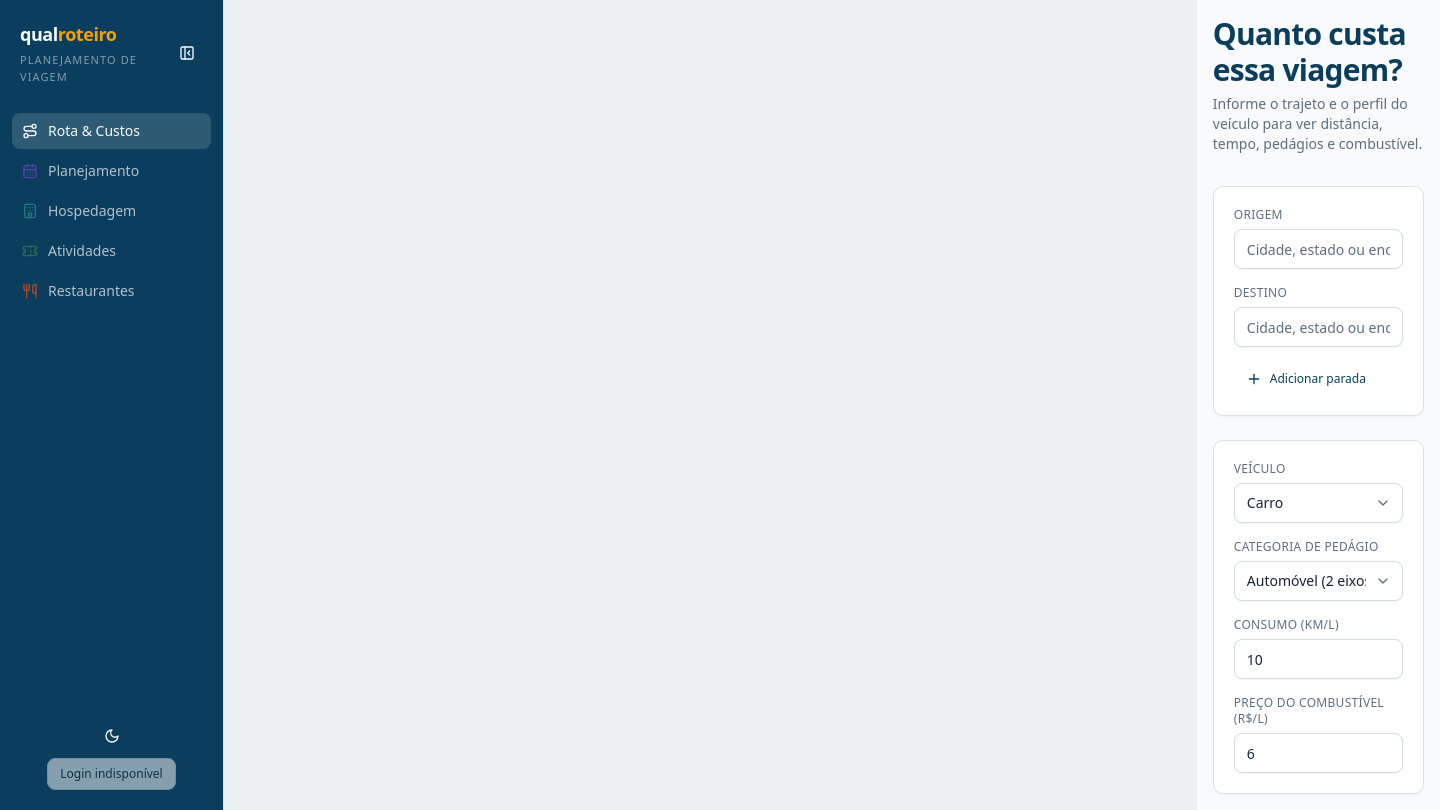
it: Tela 1 — nova consulta › shows selected origin and destination markers before submitting
Type "São" into the dropdown labelled "Origem" at (1318, 249), box [1234,229,1403,269]
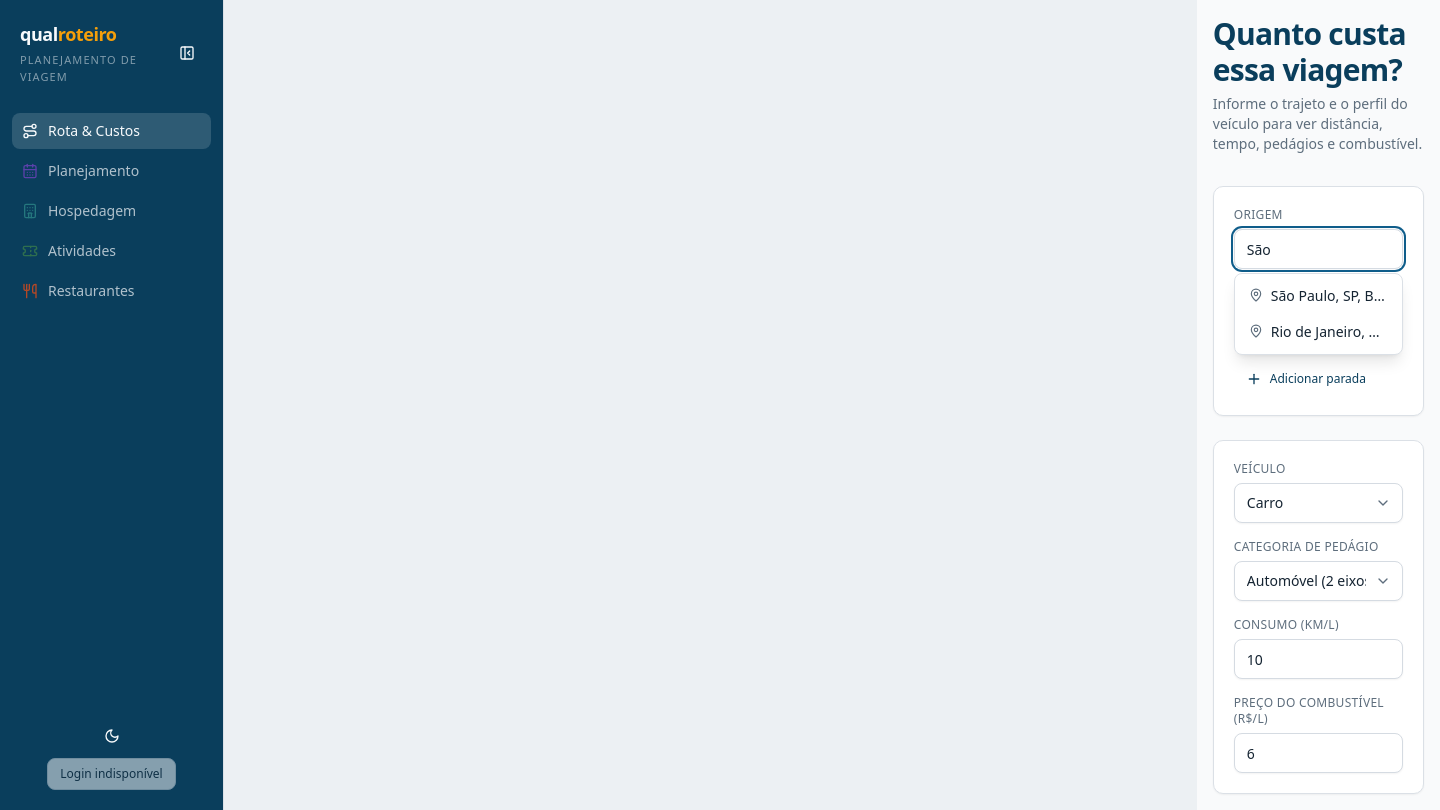
Click the option "São Paulo, SP, Brasil" at (1318, 296), box [1239,278,1398,314]
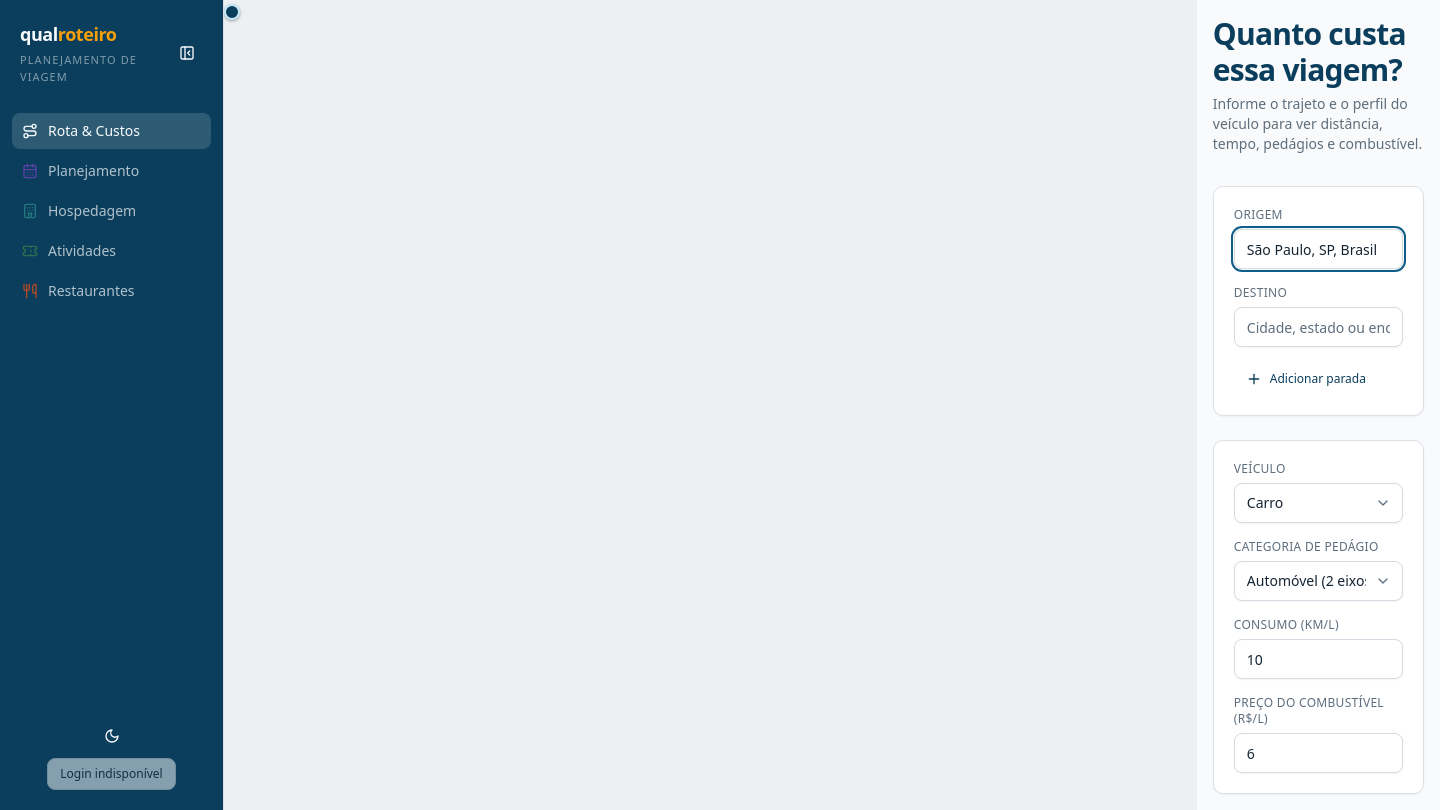
Type "Rio" into the dropdown labelled "Destino" at (1318, 327), box [1234,307,1403,347]
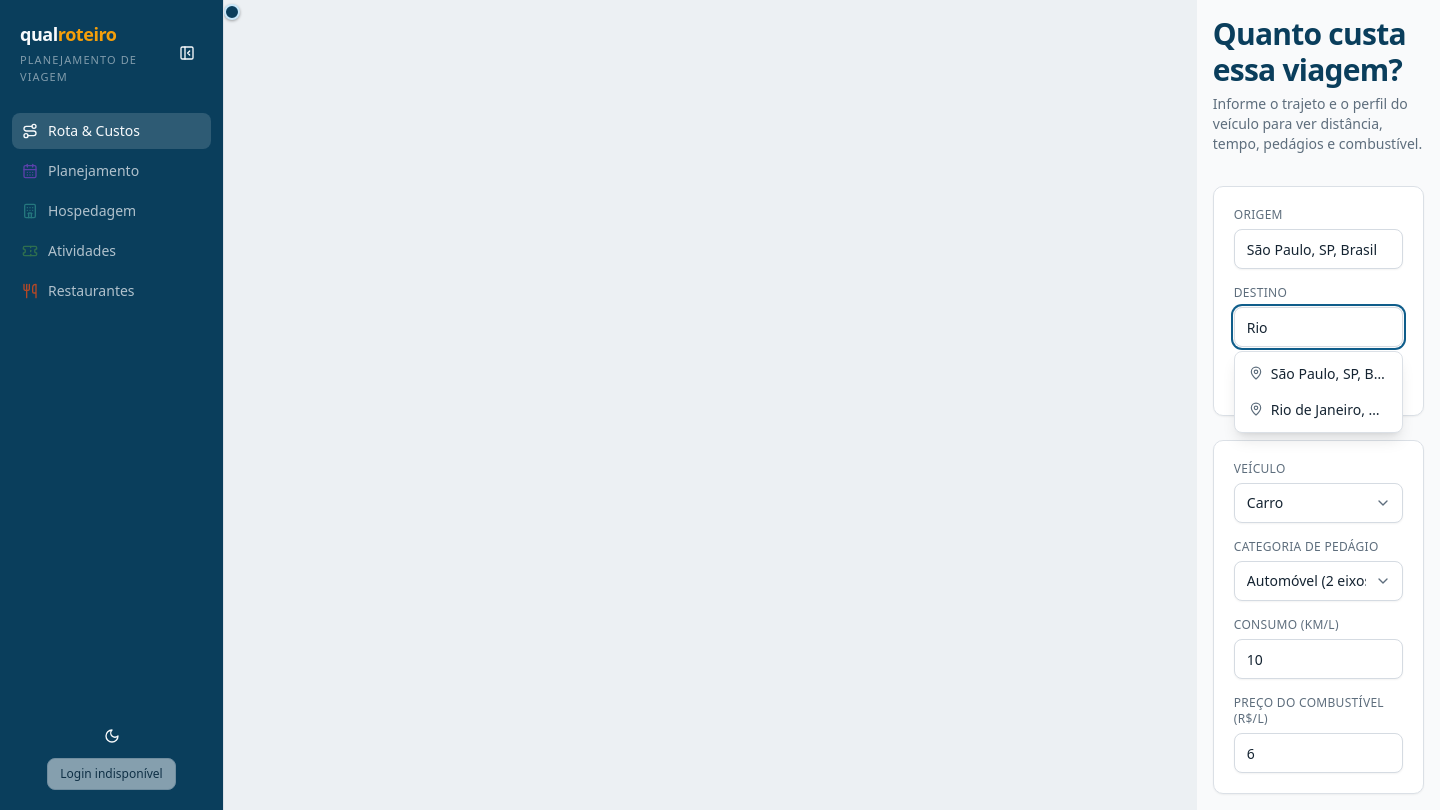
Click the option "Rio de Janeiro, RJ, Brasil" at (1318, 410), box [1239,392,1398,428]
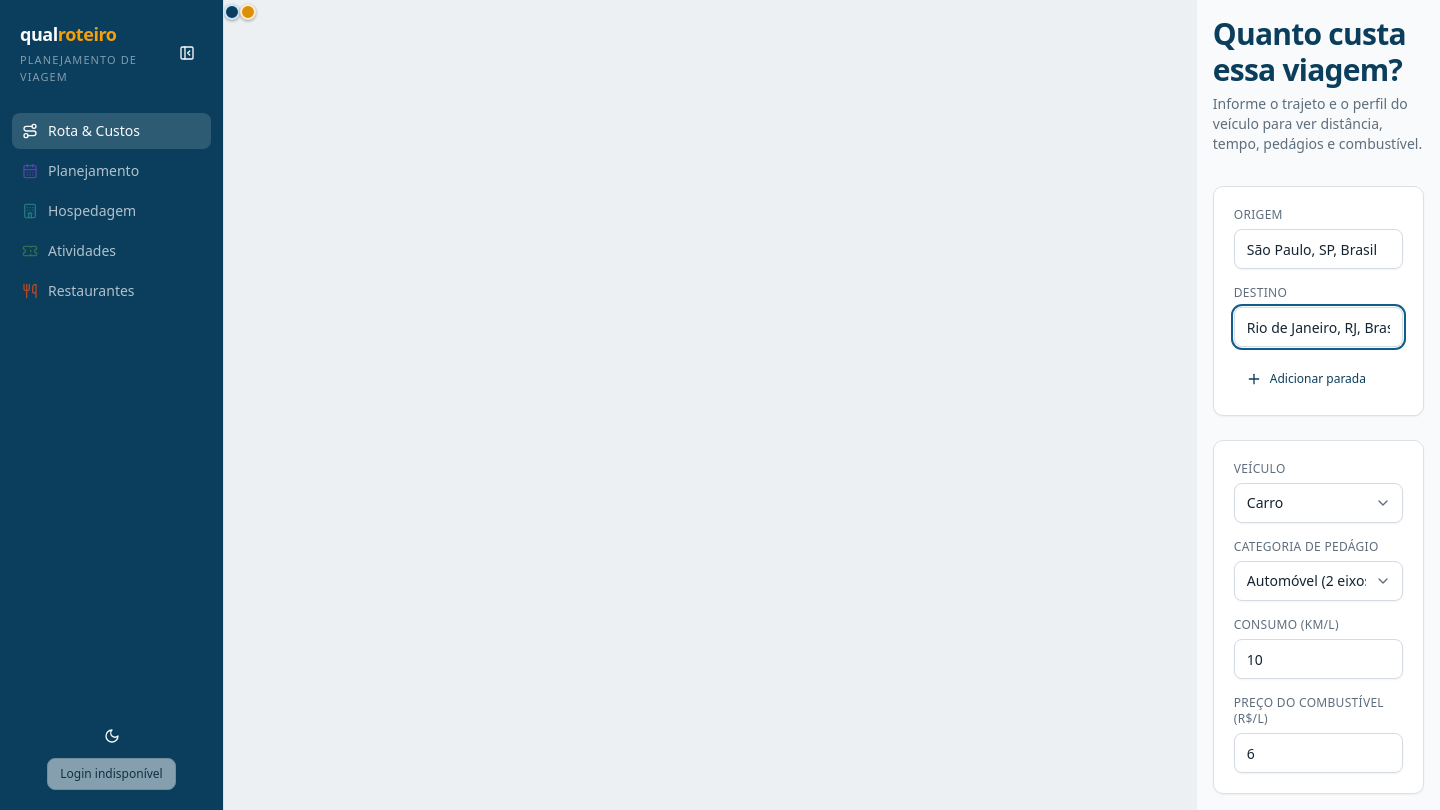
Expected: the button named "Origem: São Paulo" is shown, [224,4,240,20]
Expected: the button named "Destino: Rio de Janeiro" is shown, [240,4,256,20]
